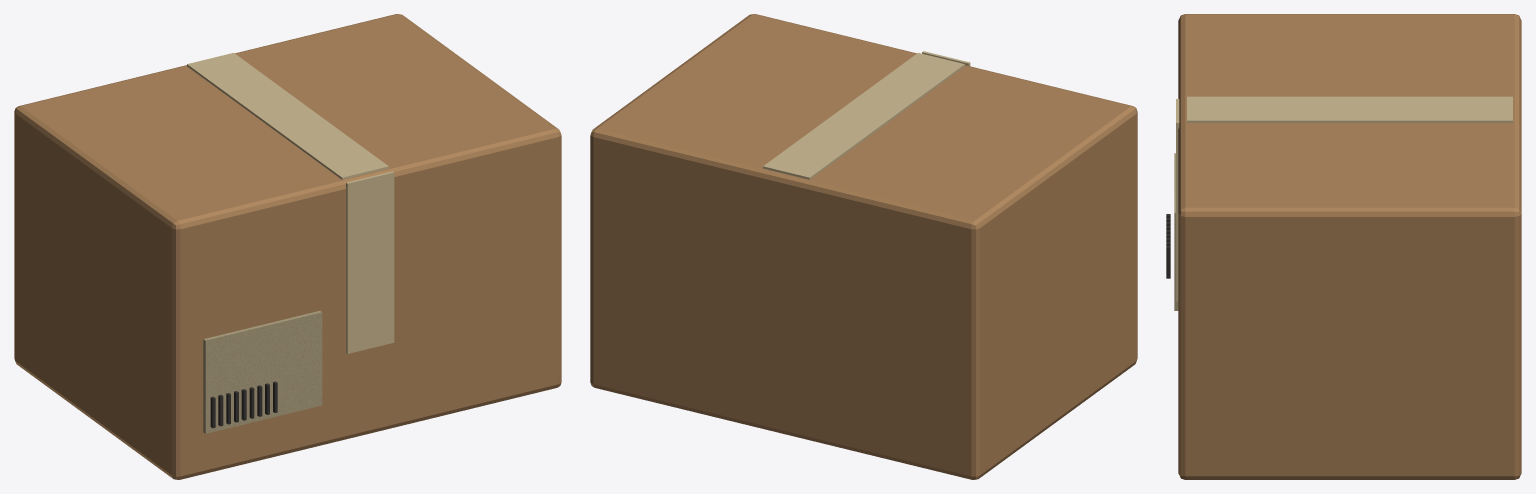
Rendered from MS_SP_22_DeliveryBoxWide.glb.
3 views of the same model, side by side, from view 1: azimuth 30°, elevation 25°; view 2: azimuth 150°, elevation 25°; view 3: azimuth 270°, elevation 25° (orthographic). The views are drawn at different scales.
Parts seen in each view (by area): view 1: Carton, FrontTape, BlankShippingLabel, Barcode; view 2: Carton, FrontTape; view 3: Carton, FrontTape.
Boxes of the visible parts, x1,y1,x2,y2 form: Carton: (14,14,561,479); FrontTape: (187,52,394,353); BlankShippingLabel: (203,311,322,433); Barcode: (210,381,277,428); Carton: (590,14,1137,479); FrontTape: (763,51,970,179); Carton: (1178,14,1521,479); FrontTape: (1176,96,1512,301).
Bounding box in the file's own units: 0.55 × 0.353 × 0.414.
Materials: 4 (1 with a texture image).
